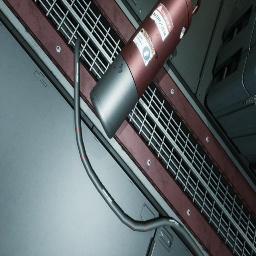NitrogenTank ,: (90, 0, 201, 139)
